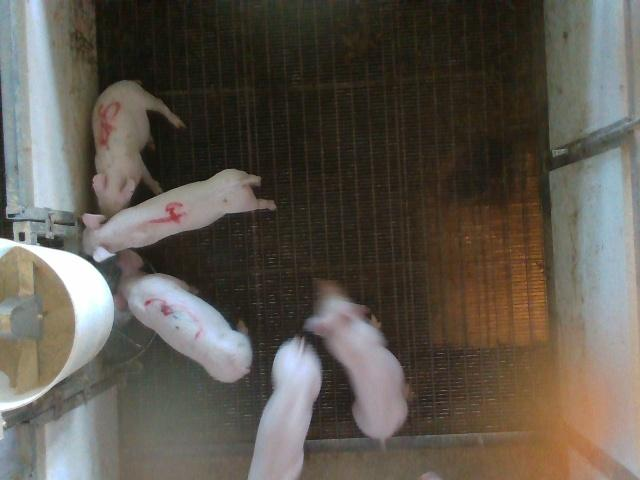pig-3: (114, 251, 252, 382)
pig-4: (82, 169, 275, 261)
pig-5: (92, 80, 185, 217)
